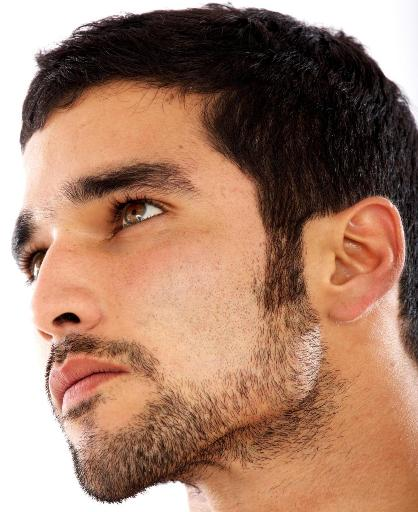left_eye: (103, 194, 180, 233)
left_lip_corner: (109, 361, 134, 385)
right_eye: (19, 238, 50, 290)
right_lip_corner: (51, 397, 72, 416)
